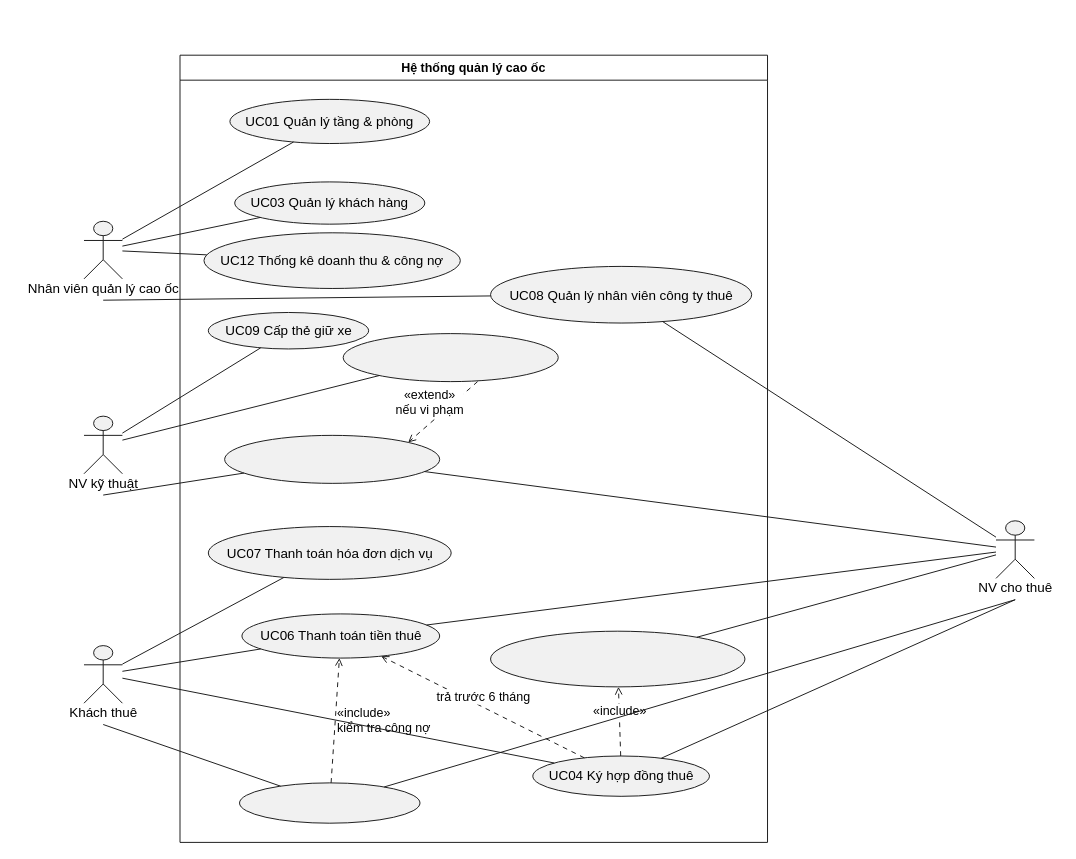
Some shapes in this 1076 by 859 pixel diagram are drawn without their labels. Each missing label, with the centre of its shape:
"UC02 Tra cứu phòng trống & báo giá" goes at point 617,658.
"UC05 Lập phiếu gia hạn" goes at point 329,802.
"UC10 Kiểm tra định kỳ phòng" goes at point 450,357.
"UC11 Lập phiếu phạt vi phạm" goes at point 332,458.
